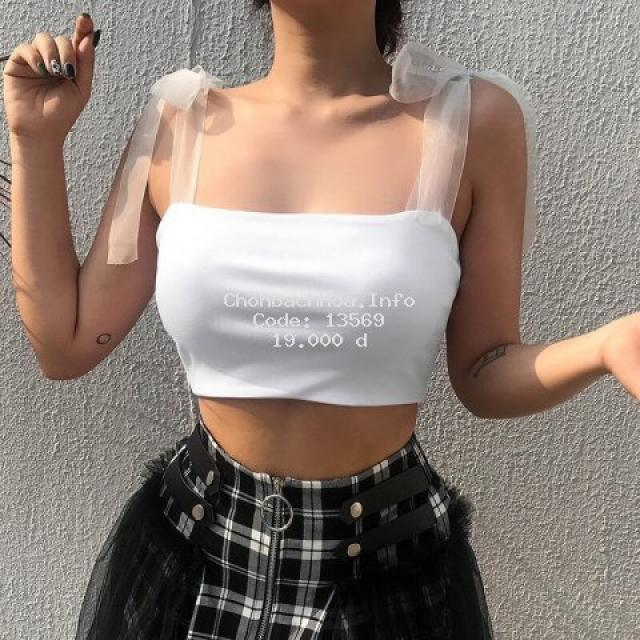clothes: (78, 66, 529, 640)
